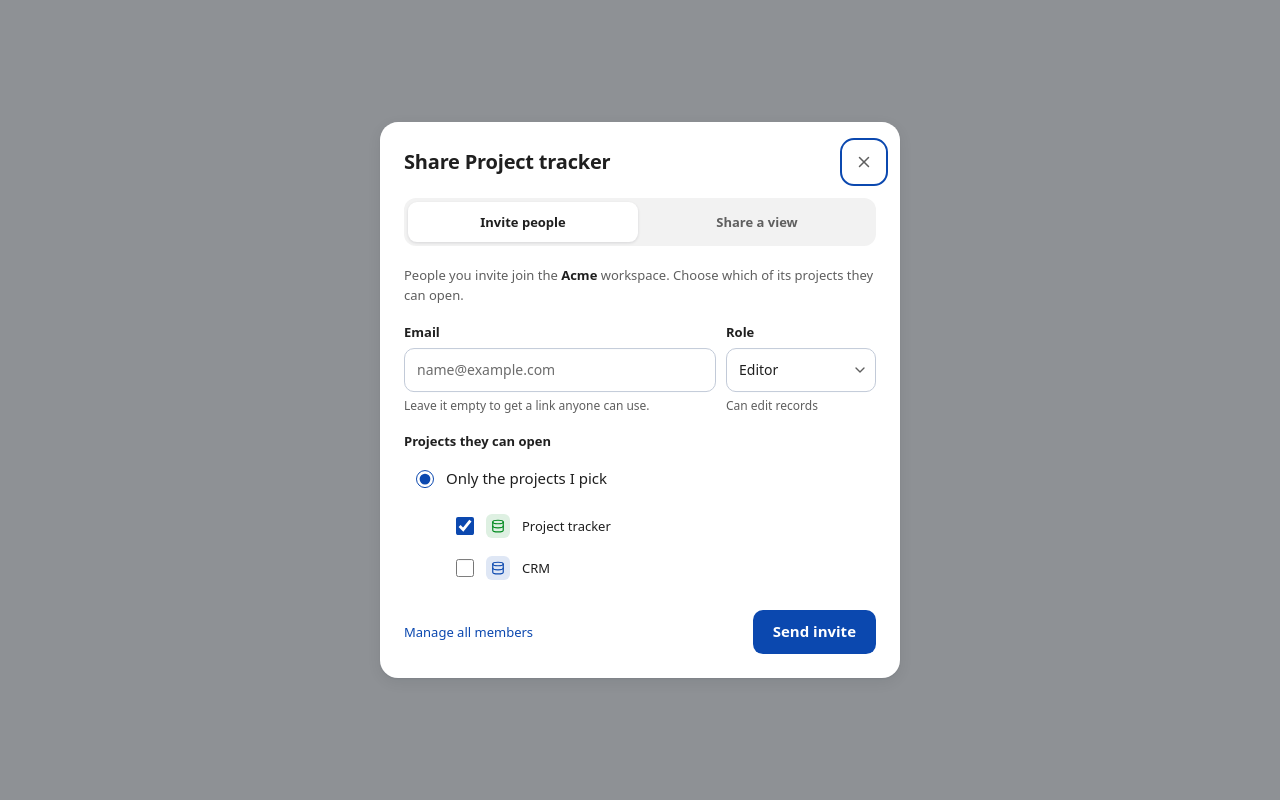
Share dialog: invite people › will not send an invite to no base at all
Click the checkbox labelled "Project tracker" at (465, 526), box [456,517,474,535]
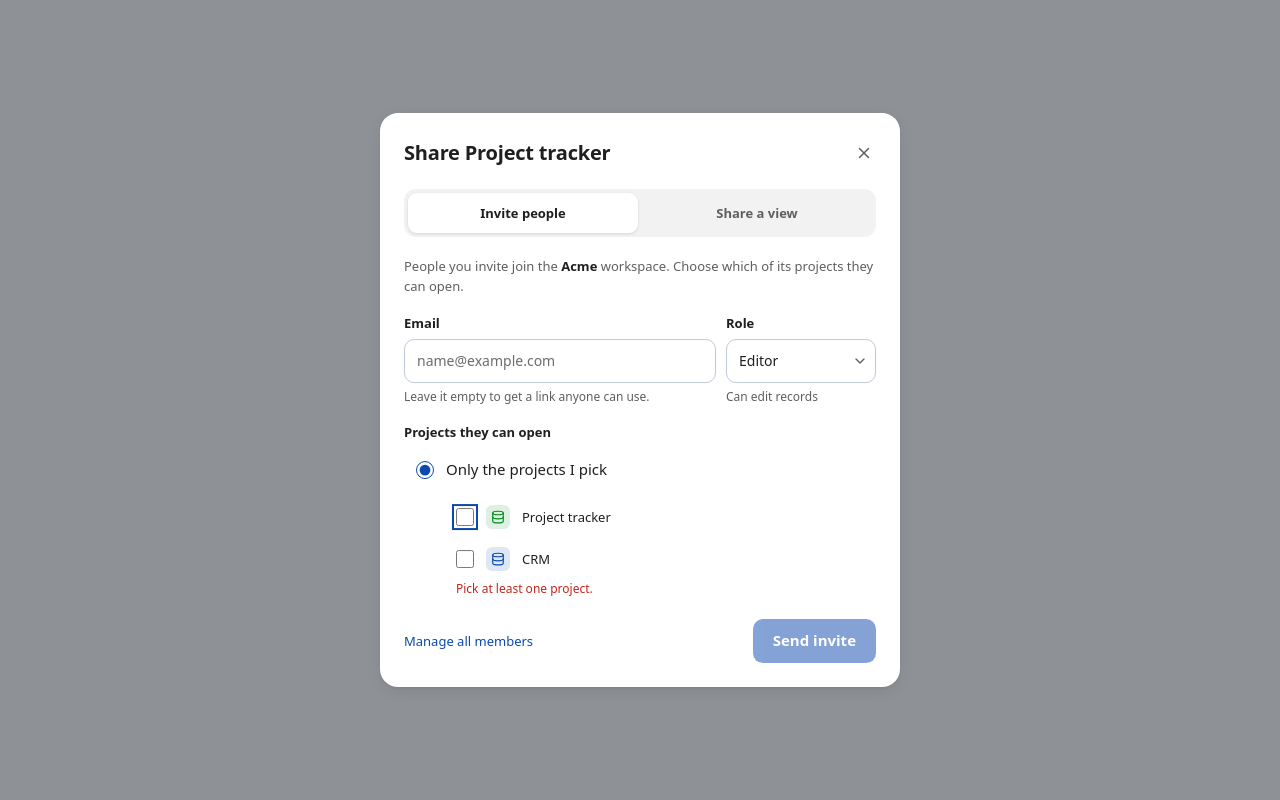
Check: the text "Pick at least one project." is shown, box [456,580,593,597]
Check: the button "Send invite" is disabled, box [753,619,876,663]
